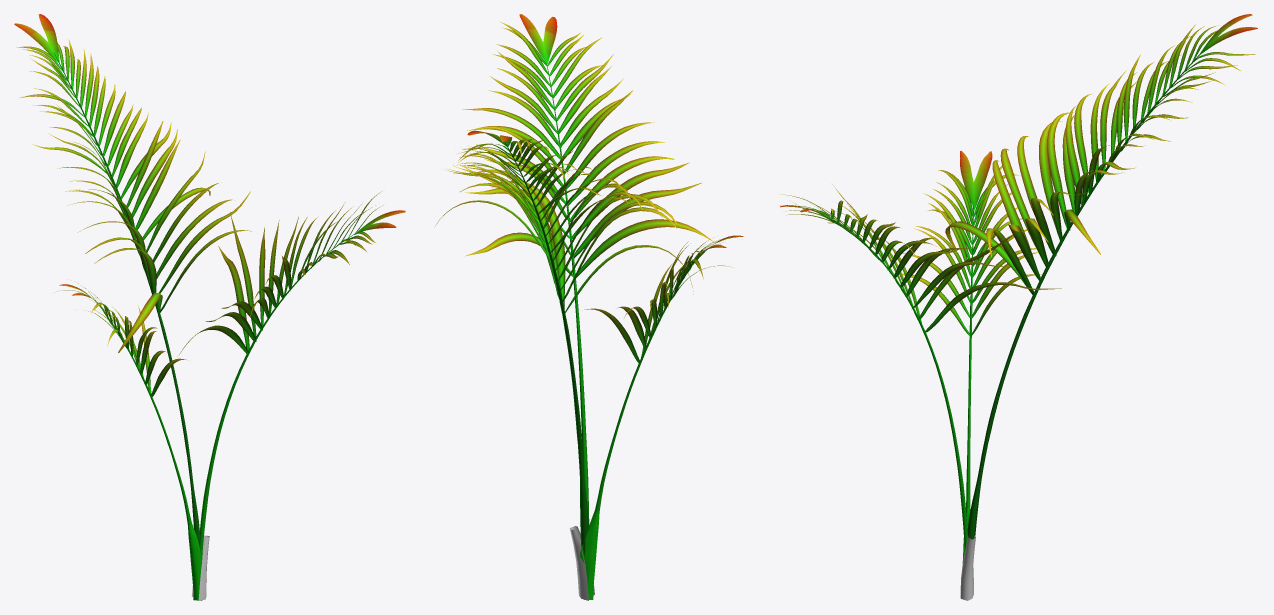
File: Alexandra Palm_LOD1_Var2_ukgkcilia.fbx
3 renders of one model, left to right at view 1: azimuth 30°, elevation 25°; view 2: azimuth 150°, elevation 25°; view 3: azimuth 270°, elevation 25°, orthographic. The views are drawn at different scales.
Parts seen in each view (by area): view 1: _bbr7_Var2_LOD1; view 2: _bbr7_Var2_LOD1; view 3: _bbr7_Var2_LOD1.
Part boxes in pixels (bbox=[...]): _bbr7_Var2_LOD1: bbox=[14, 14, 405, 600]; _bbr7_Var2_LOD1: bbox=[435, 14, 743, 600]; _bbr7_Var2_LOD1: bbox=[780, 14, 1257, 600].
Bounding box in the file's own units: 41.82 × 75.15 × 59.69.
